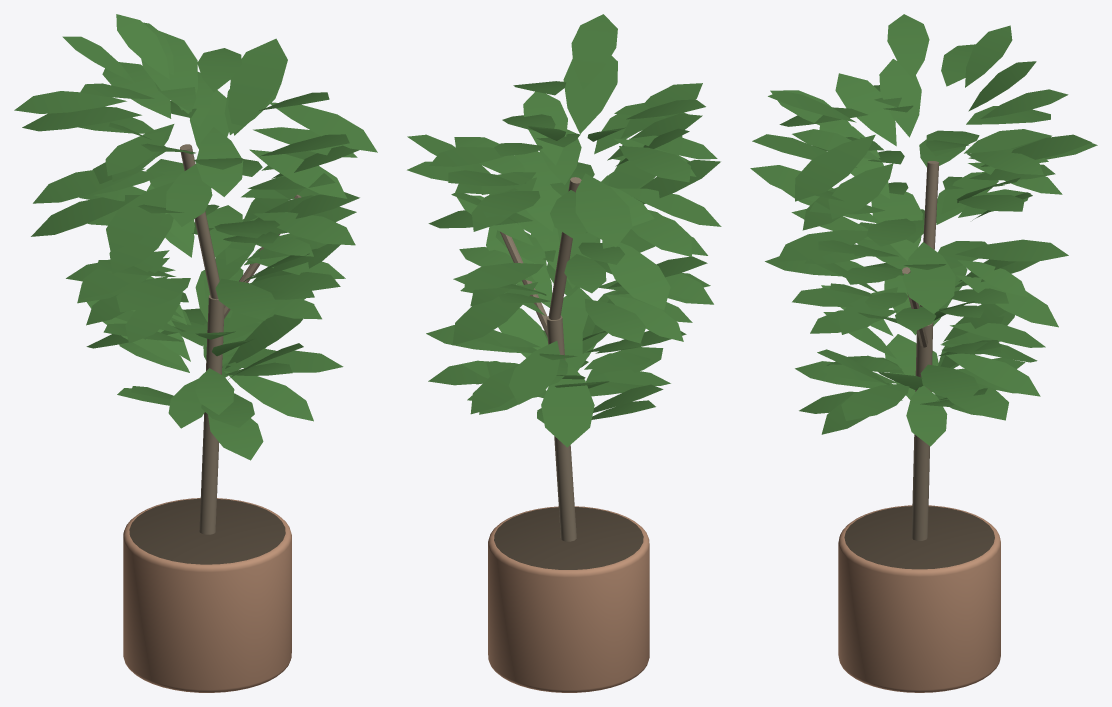
File: ficus.glb
3 renders of one model, left to right at view 1: azimuth 30°, elevation 25°; view 2: azimuth 150°, elevation 25°; view 3: azimuth 270°, elevation 25°, orthographic. The views are drawn at different scales.
Parts seen in each view (by area): view 1: ficus_foglie, ficus_vaso; view 2: ficus_foglie, ficus_vaso; view 3: ficus_foglie, ficus_vaso.
Boxes of the visible parts, box(x1,y1,x2,y2) form: ficus_foglie: box(14, 14, 377, 460); ficus_vaso: box(123, 144, 301, 692); ficus_foglie: box(407, 14, 721, 447); ficus_vaso: box(488, 177, 649, 692); ficus_foglie: box(750, 14, 1097, 446); ficus_vaso: box(838, 161, 1000, 692).
Size of the model in its own units: 1.23 by 2.4 by 1.28.
